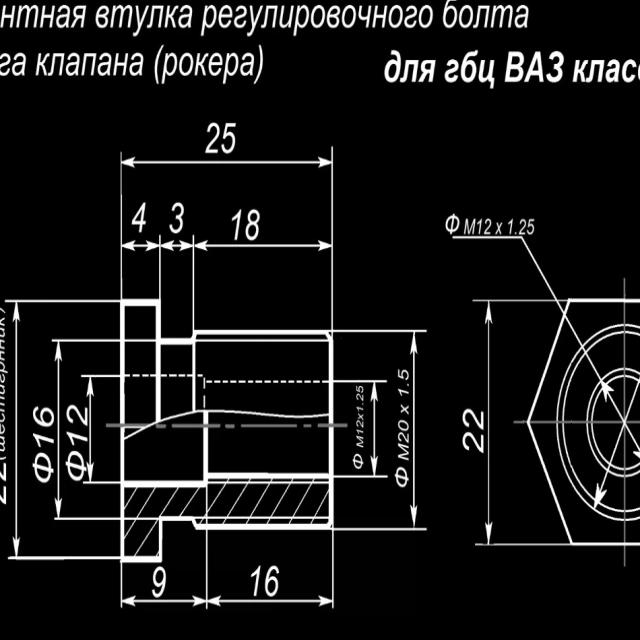marking_line: (116, 149, 335, 296), (3, 296, 119, 563), (336, 329, 425, 533), (186, 235, 335, 327), (47, 336, 121, 521), (473, 295, 526, 549), (203, 532, 336, 610), (335, 376, 387, 481), (119, 562, 211, 609), (80, 373, 118, 485), (600, 381, 640, 458), (157, 231, 196, 296), (120, 237, 161, 298), (592, 480, 608, 507)
numeric: (263, 561, 280, 599), (220, 122, 238, 156), (31, 403, 55, 428), (460, 405, 484, 430), (65, 402, 88, 428), (168, 199, 185, 234), (461, 431, 484, 455), (130, 201, 147, 233), (246, 205, 261, 240), (65, 429, 89, 448), (152, 565, 165, 599), (206, 121, 219, 154), (32, 431, 54, 449), (250, 563, 261, 597), (230, 208, 241, 242), (396, 368, 409, 380), (398, 418, 409, 432), (398, 431, 409, 444), (519, 219, 527, 236), (484, 217, 491, 236), (527, 219, 535, 235), (398, 388, 409, 397), (508, 219, 514, 235), (477, 218, 482, 235), (356, 419, 365, 428), (356, 393, 364, 402), (356, 385, 364, 393), (356, 428, 365, 435), (356, 405, 364, 412)
